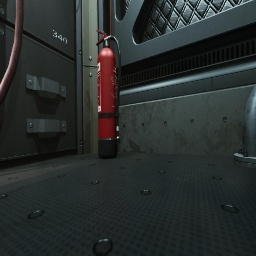FireExtinguisher ]: (96, 30, 121, 159)
